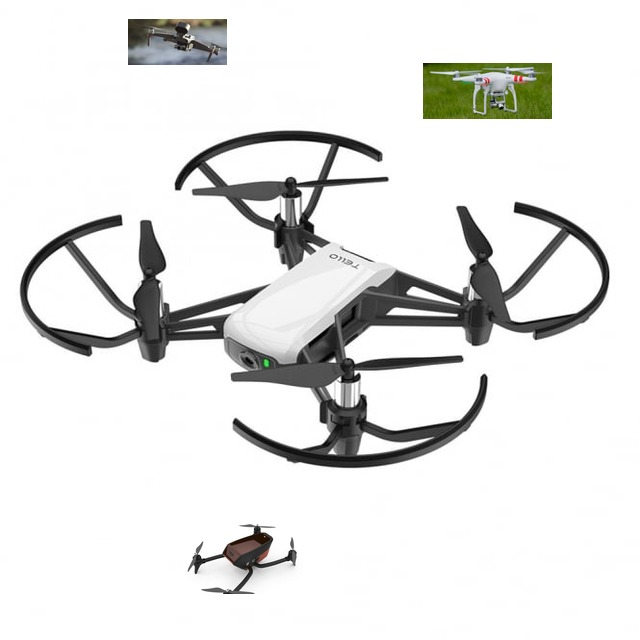drone: (18, 129, 609, 470), (181, 524, 303, 594), (423, 63, 552, 119), (128, 19, 227, 65)
